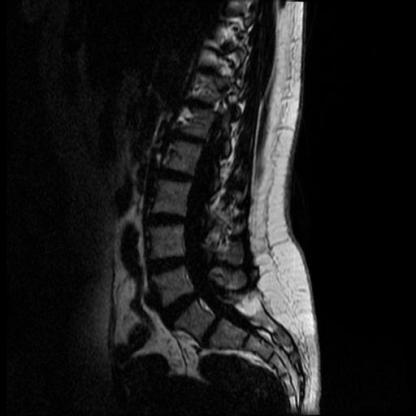Annular Disc Relaxationrotation: (169, 287, 190, 324), (203, 316, 220, 347)
Degenerative Disc Diseaserotation: (160, 167, 195, 189), (171, 288, 191, 326), (202, 316, 220, 347)
Disc Bulgerotation: (160, 167, 195, 189)
